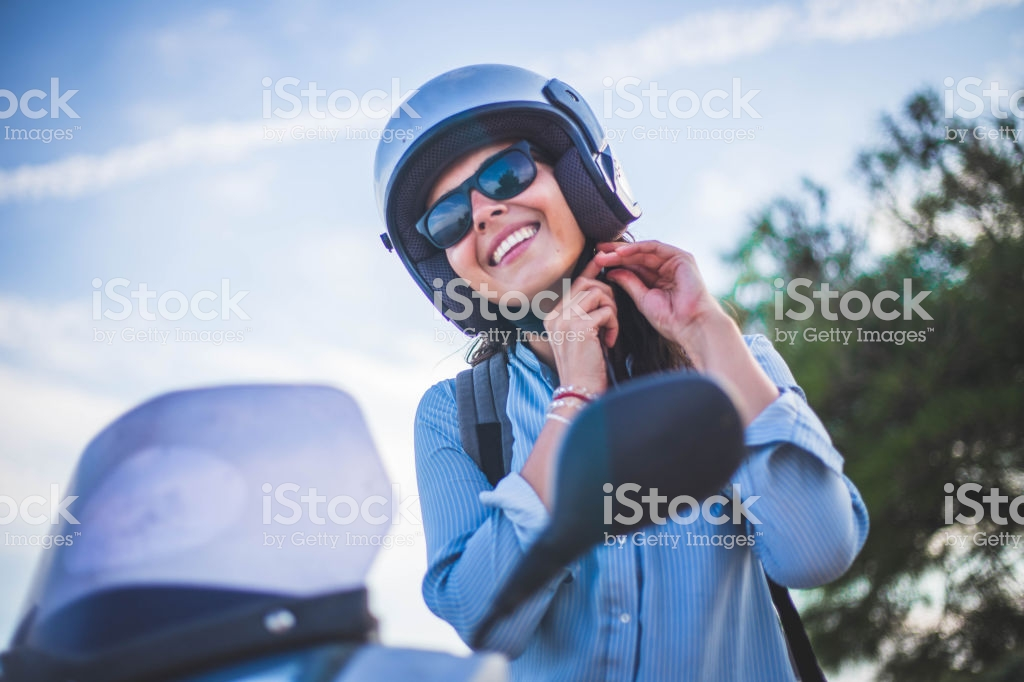helmet: (375, 67, 608, 284)
